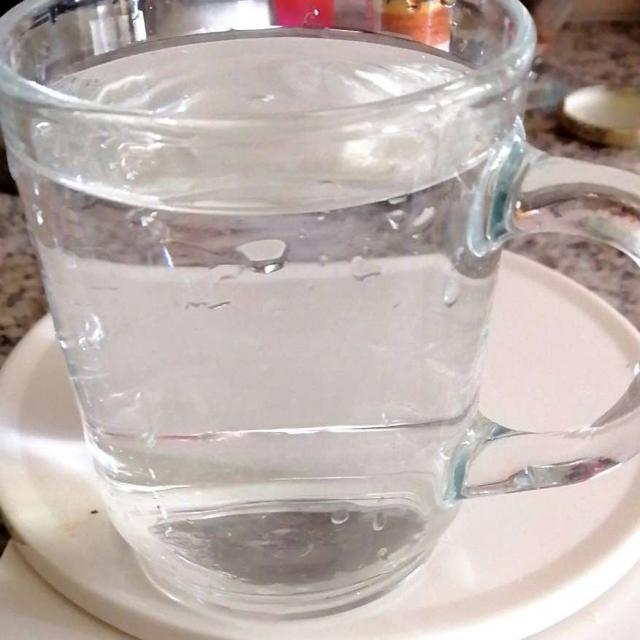water: (24, 36, 515, 503)
